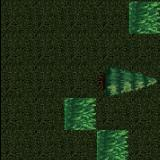Obstacle: (95, 65, 128, 98)
Slow: (128, 1, 160, 34), (63, 98, 95, 130), (95, 130, 128, 160)
